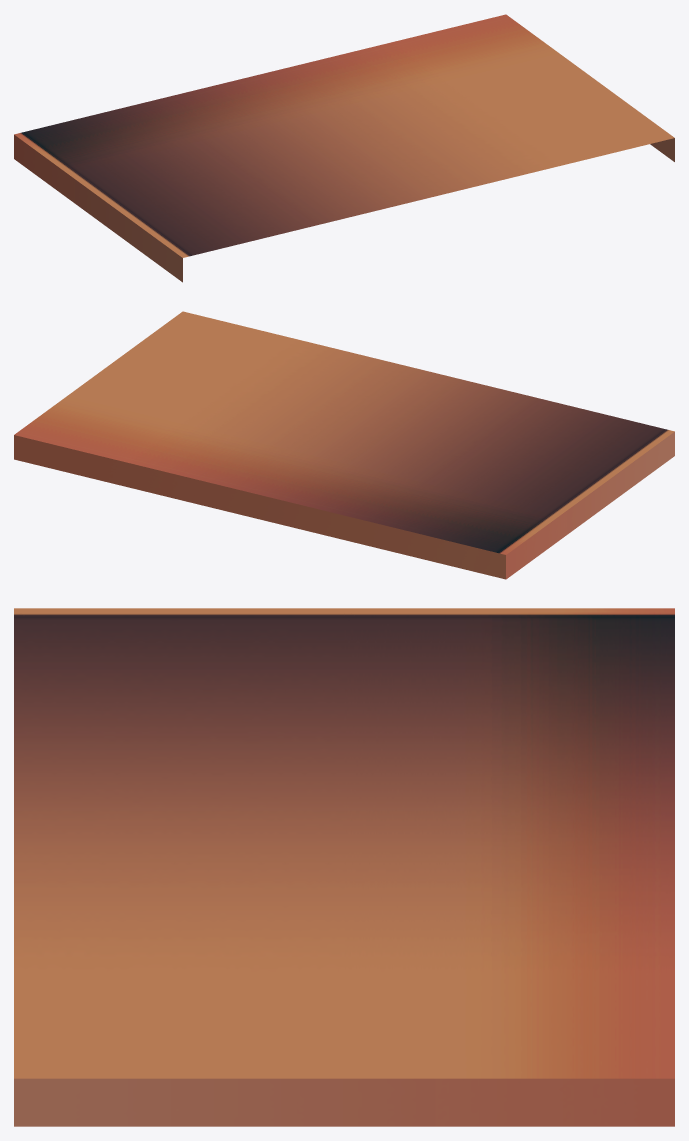
File: wall_04_test.fbx
3 views of the same model, one above another, from view 1: azimuth 30°, elevation 25°; view 2: azimuth 150°, elevation 25°; view 3: azimuth 270°, elevation 25° (orthographic). The views are drawn at different scales.
Visible parts, largest first — view 1: pCube6; view 2: pCube6; view 3: pCube6.
Boxes of the visible parts, left/top/right/bottom form: pCube6: left=14, top=14, right=674, bottom=282; pCube6: left=14, top=311, right=674, bottom=579; pCube6: left=14, top=608, right=674, bottom=1126.
Bounding box in the file's own units: 303 × 14.42 × 180.
Materials: 1 (1 with a texture image).
